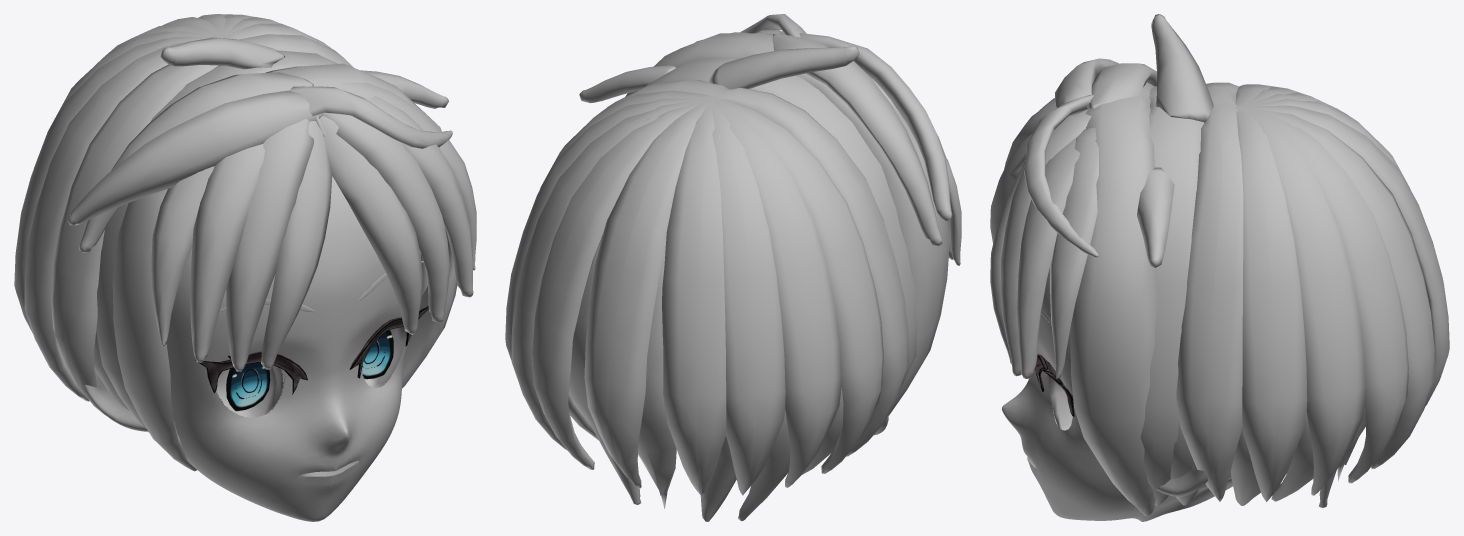
The model's file is male_hair_long 3.glb.
The picture shows the model from 3 angles, left to right: view 1: azimuth 30°, elevation 25°; view 2: azimuth 150°, elevation 25°; view 3: azimuth 270°, elevation 25°; orthographic projection.
Visible parts, largest first — view 1: face_0, hair_13, hair_21, hair_12, hair_6, hair_18, hair_14, hair_5, hair_20, hair_11, hair_4, hair_15 (+9 smaller); view 2: hair_2, hair_3, hair_4, hair_1, hair_5, hair_6, hair_12, hair_11, hair_15, hair_14, hair_0, hair_7 (+6 smaller); view 3: hair_12, hair_6, hair_5, hair_4, hair_3, face_0, hair_11, hair_2, hair_1, hair_20, hair_18, hair_13 (+11 smaller).
Boxes of the visible parts, x1,y1,x2,y2 form: face_0: [83, 176, 420, 521]; hair_13: [226, 85, 449, 371]; hair_21: [261, 116, 422, 369]; hair_12: [112, 63, 457, 471]; hair_6: [51, 34, 353, 415]; hair_18: [190, 96, 473, 362]; hair_14: [67, 90, 323, 225]; hair_5: [24, 23, 331, 401]; hair_20: [151, 82, 476, 345]; hair_11: [96, 50, 427, 428]; hair_4: [14, 17, 280, 332]; hair_15: [79, 72, 313, 252]; hair_2: [532, 96, 726, 496]; hair_3: [511, 96, 785, 495]; hair_4: [505, 96, 841, 487]; hair_1: [584, 96, 719, 488]; hair_5: [540, 90, 883, 473]; hair_6: [605, 79, 908, 456]; hair_12: [625, 33, 949, 415]; hair_11: [644, 57, 917, 384]; hair_15: [772, 33, 942, 246]; hair_14: [799, 33, 952, 220]; hair_0: [638, 240, 676, 508]; hair_7: [569, 239, 736, 521]; hair_12: [1070, 82, 1158, 516]; hair_6: [1176, 82, 1243, 501]; hair_5: [1235, 84, 1307, 502]; hair_4: [1237, 86, 1365, 495]; hair_3: [1237, 92, 1408, 483]; face_0: [1001, 269, 1232, 521]; hair_11: [1140, 86, 1203, 505]; hair_2: [1236, 98, 1434, 469]; hair_1: [1235, 105, 1449, 405]; hair_20: [1050, 127, 1098, 378]; hair_18: [1017, 98, 1079, 378]; hair_13: [1000, 100, 1114, 376].
Size of the model in its own units: 0.3183 by 0.373 by 0.3408.
27 materials, 2 textured.
